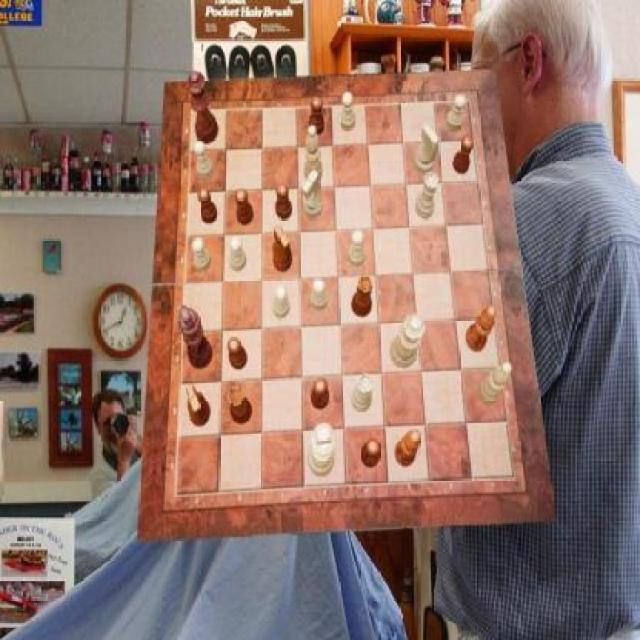bishop: (466, 306, 496, 352), (396, 429, 422, 467)
black-bishop: (178, 306, 214, 370)
black-king: (186, 385, 211, 427), (274, 226, 294, 272)
black-knight: (454, 135, 474, 174), (198, 188, 218, 224), (228, 338, 248, 371), (236, 190, 254, 226), (311, 378, 330, 411), (310, 97, 326, 135), (276, 184, 292, 220), (362, 440, 382, 468)
black-pawn: (188, 70, 220, 144)
black-queen: (351, 275, 373, 318), (228, 386, 252, 424)
black-rook: (478, 361, 512, 404), (304, 125, 324, 182)
white-bishop: (309, 422, 337, 476)
white-king: (414, 124, 438, 176), (303, 170, 323, 218)
white-knight: (194, 140, 214, 180), (446, 94, 466, 131), (192, 238, 212, 272), (348, 229, 365, 267), (340, 92, 356, 132), (230, 235, 248, 270), (274, 285, 291, 319), (311, 278, 328, 311)
white-pawn: (391, 312, 426, 367)
white-queen: (416, 172, 438, 220), (352, 374, 375, 412)
